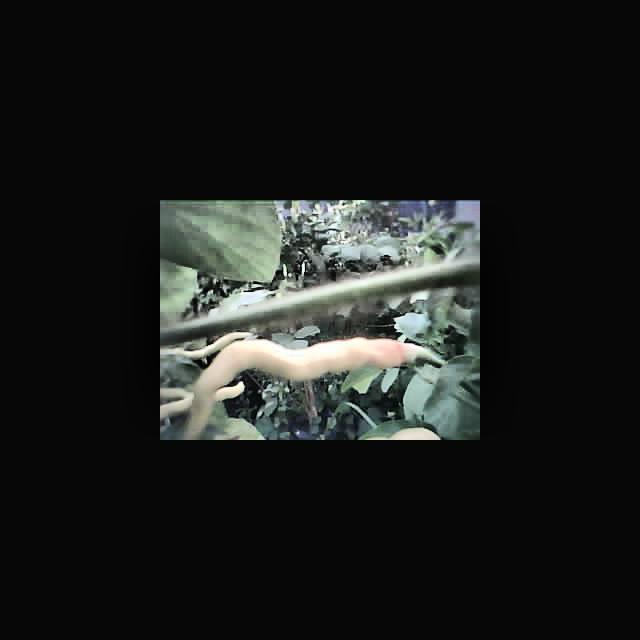Cabai: (177, 341, 401, 394)
